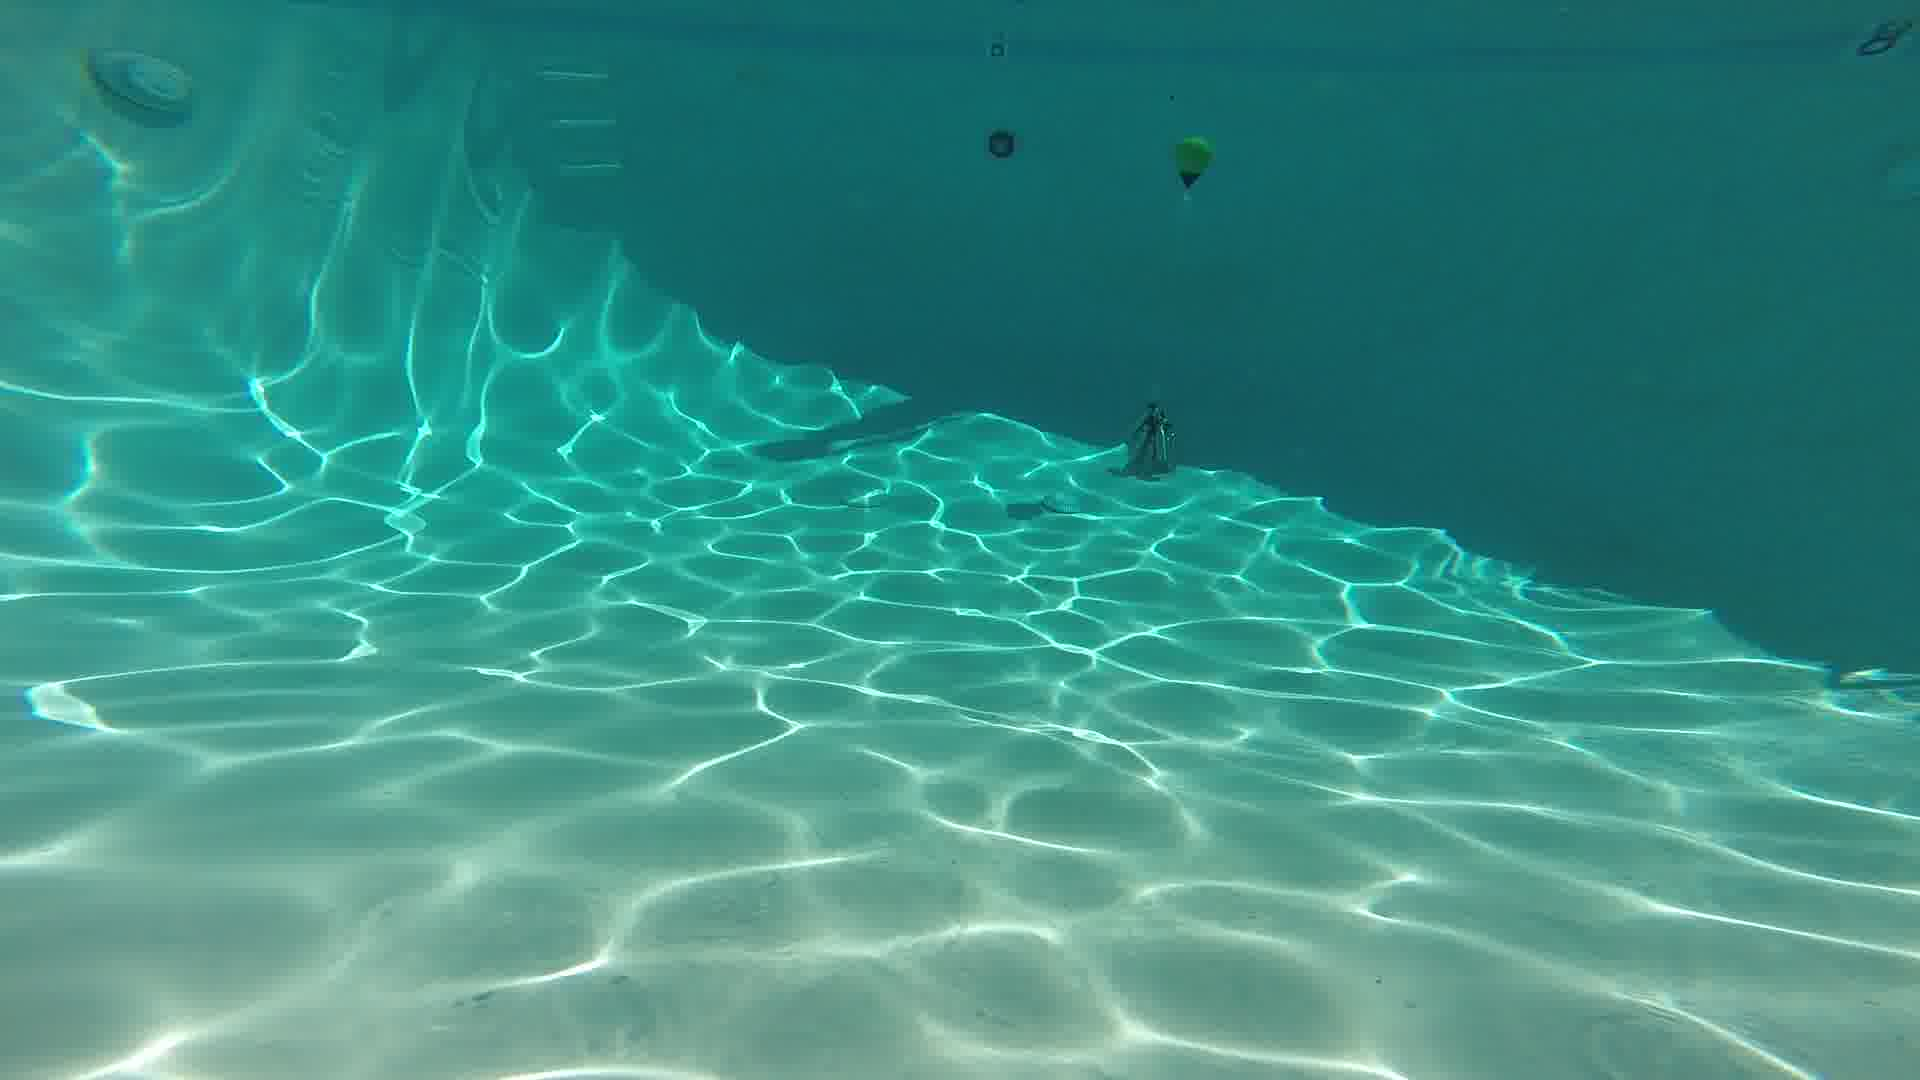yellow_buoy: (1176, 136, 1211, 187)
